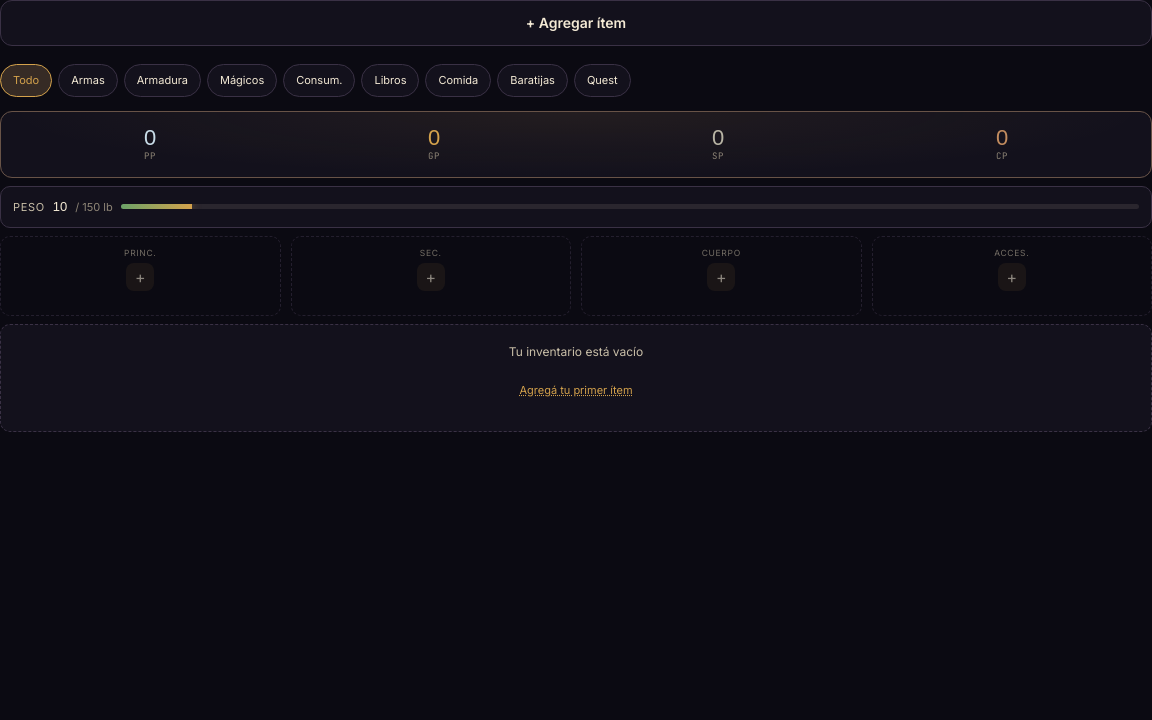
Test: InventarioTab — picker open › tapping "Agregar ítem" opens the modal with the search input focused
This screenshot has width=1152, height=720.
Click the button "+ Agregar ítem".
click(576, 23)  # box x1=0 y1=0 x2=1151 y2=46
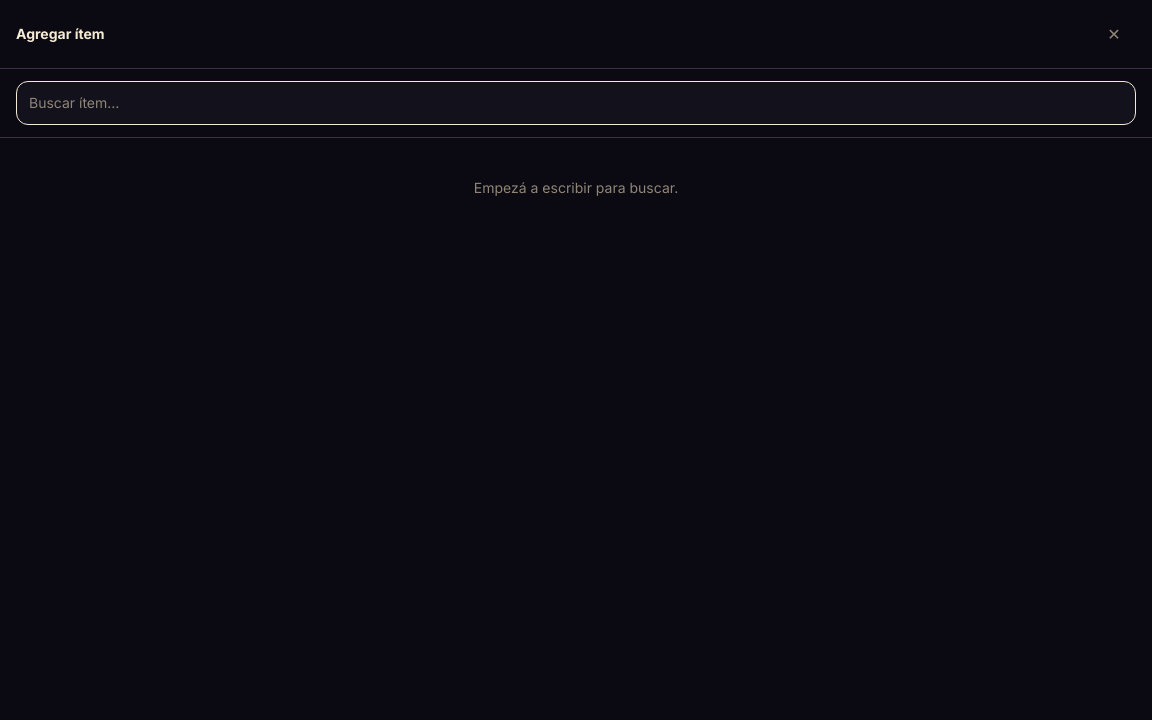
Expected: the dialog "Agregar ítem" is shown
Expected: the search field with placeholder "Buscar ítem…" is shown, x1=16 y1=81 x2=1136 y2=125
Expected: the button named "Cerrar" is shown, x1=1092 y1=12 x2=1136 y2=56
